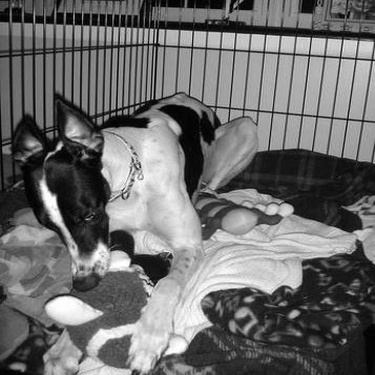dog: (7, 85, 266, 372)
